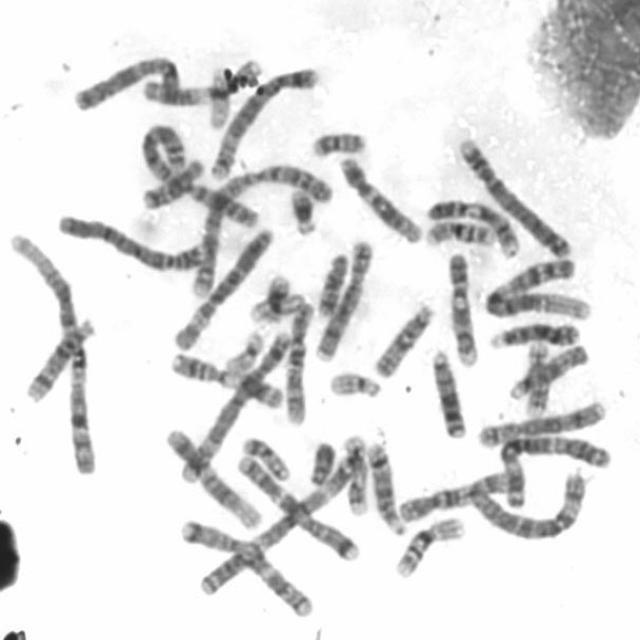A1: (2, 222, 100, 478), (479, 250, 594, 322)
A2: (183, 152, 334, 302), (134, 115, 263, 230)
A3: (188, 434, 370, 597), (498, 426, 615, 508)
B4: (450, 130, 574, 260), (50, 206, 208, 274)
B5: (174, 322, 294, 486), (203, 57, 323, 182)
C10: (392, 463, 514, 525), (278, 293, 316, 427)
C11: (163, 345, 286, 410), (137, 52, 265, 106)
C12: (158, 420, 263, 531), (332, 148, 424, 246)
C6: (167, 219, 278, 352), (463, 464, 591, 543)
C7: (172, 511, 316, 619), (230, 448, 361, 564)
C8: (307, 232, 376, 363), (470, 393, 608, 449)
C9: (419, 189, 522, 259), (441, 245, 481, 368)
D13: (424, 341, 470, 440), (482, 315, 582, 350)
D14: (19, 310, 99, 404), (360, 436, 407, 537)
D15: (366, 296, 437, 379), (502, 337, 592, 401)
E16: (388, 510, 468, 580), (418, 212, 499, 250)
E17: (336, 428, 370, 518), (518, 335, 553, 418)
E18: (135, 150, 206, 211), (310, 246, 350, 318)
F19: (243, 286, 304, 325), (201, 61, 232, 130)
F20: (237, 430, 291, 482), (304, 123, 368, 159)
G21: (245, 266, 294, 326), (282, 181, 319, 237)
G22: (218, 324, 267, 376), (322, 365, 384, 400)
X: (66, 47, 185, 114)
Y: (303, 434, 338, 488)
